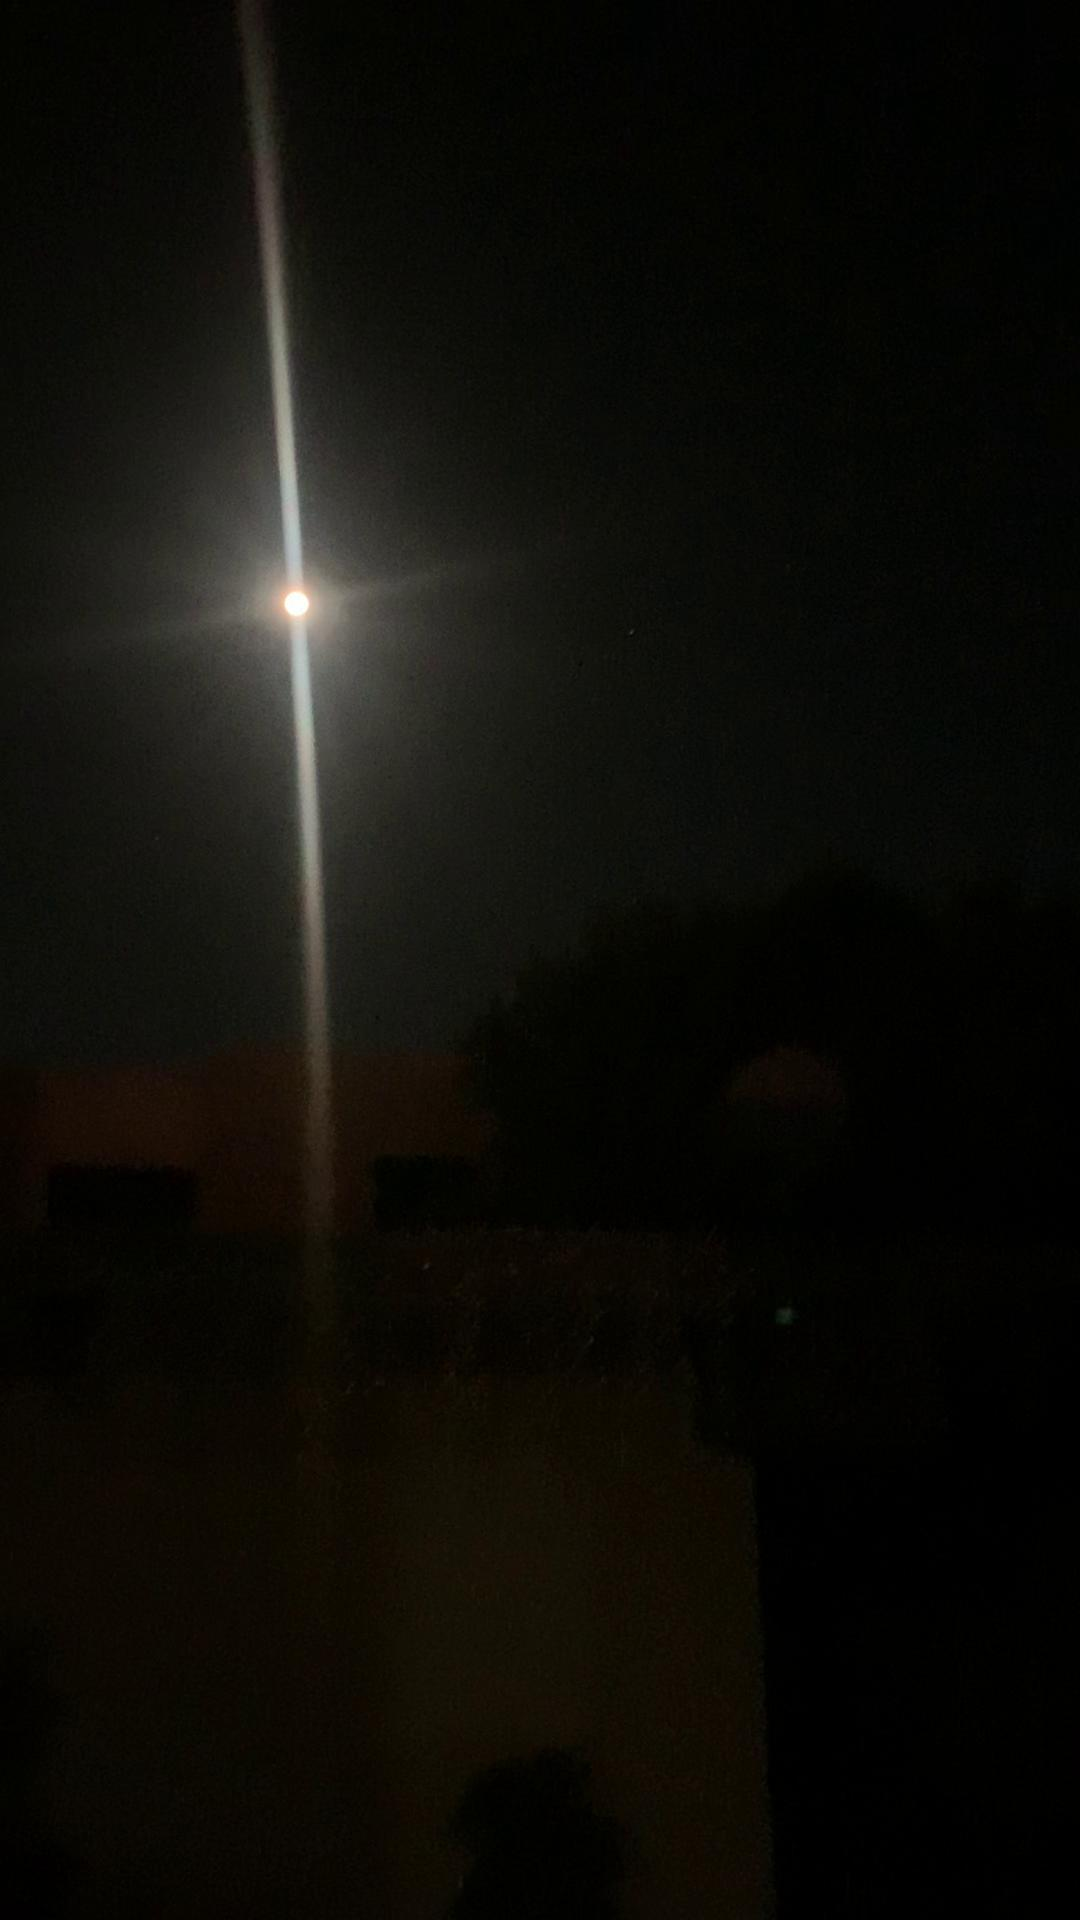moon: (272, 562, 345, 641)
